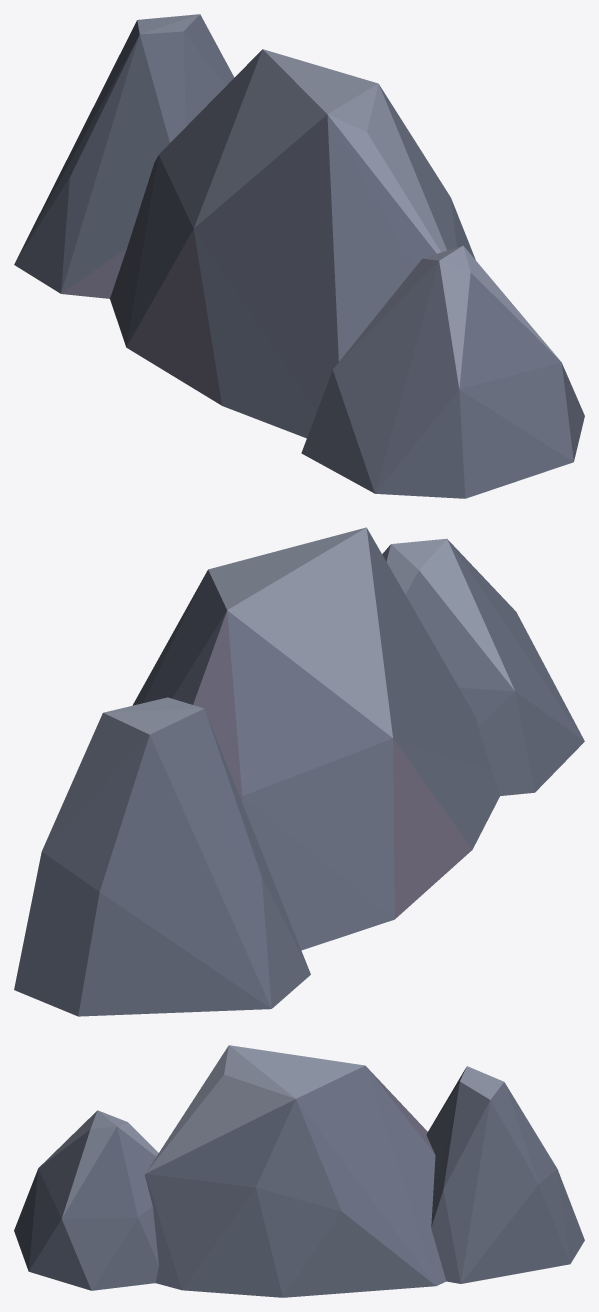
File: mount_3.glb
3 views of the same model, one above another, from view 1: azimuth 30°, elevation 25°; view 2: azimuth 150°, elevation 25°; view 3: azimuth 270°, elevation 25° (orthographic). The views are drawn at different scales.
Visible parts, largest first — view 1: Body; view 2: Body; view 3: Body.
Boxes of the visible parts, x1=… form: Body: x1=14, y1=14, x2=584, y2=498; Body: x1=14, y1=527, x2=584, y2=1016; Body: x1=14, y1=1045, x2=584, y2=1297.
Size of the model in its own units: 16.63 by 14.57 by 39.59.
